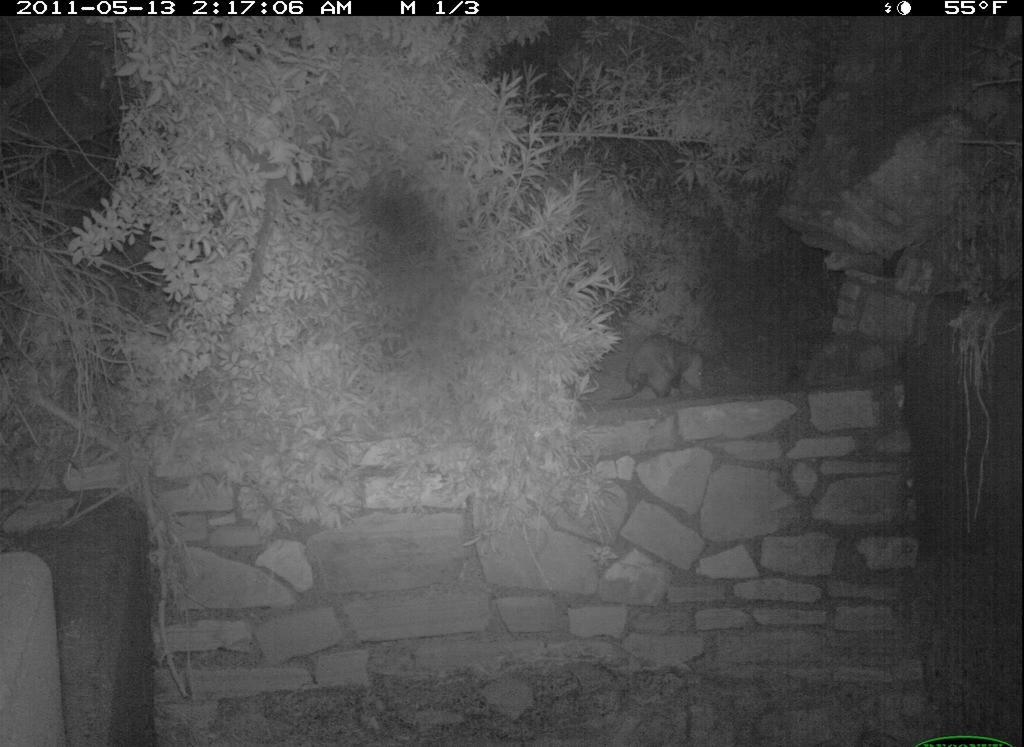opossum: (602, 329, 744, 429)
